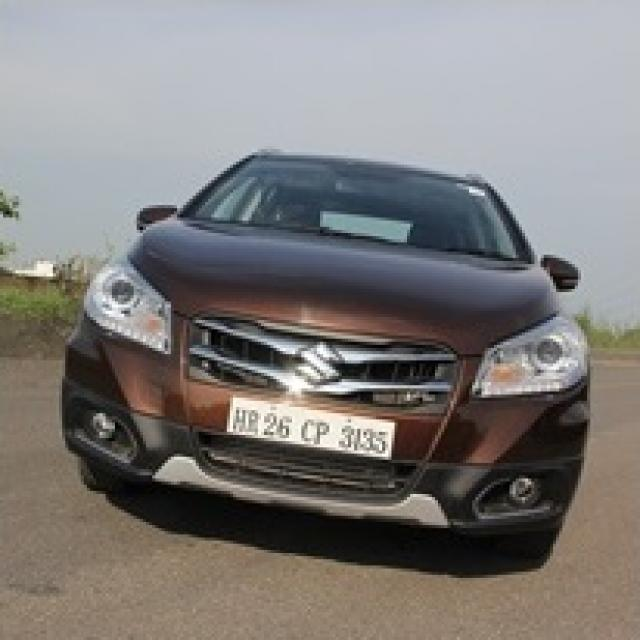license-plate: (220, 391, 392, 460)
